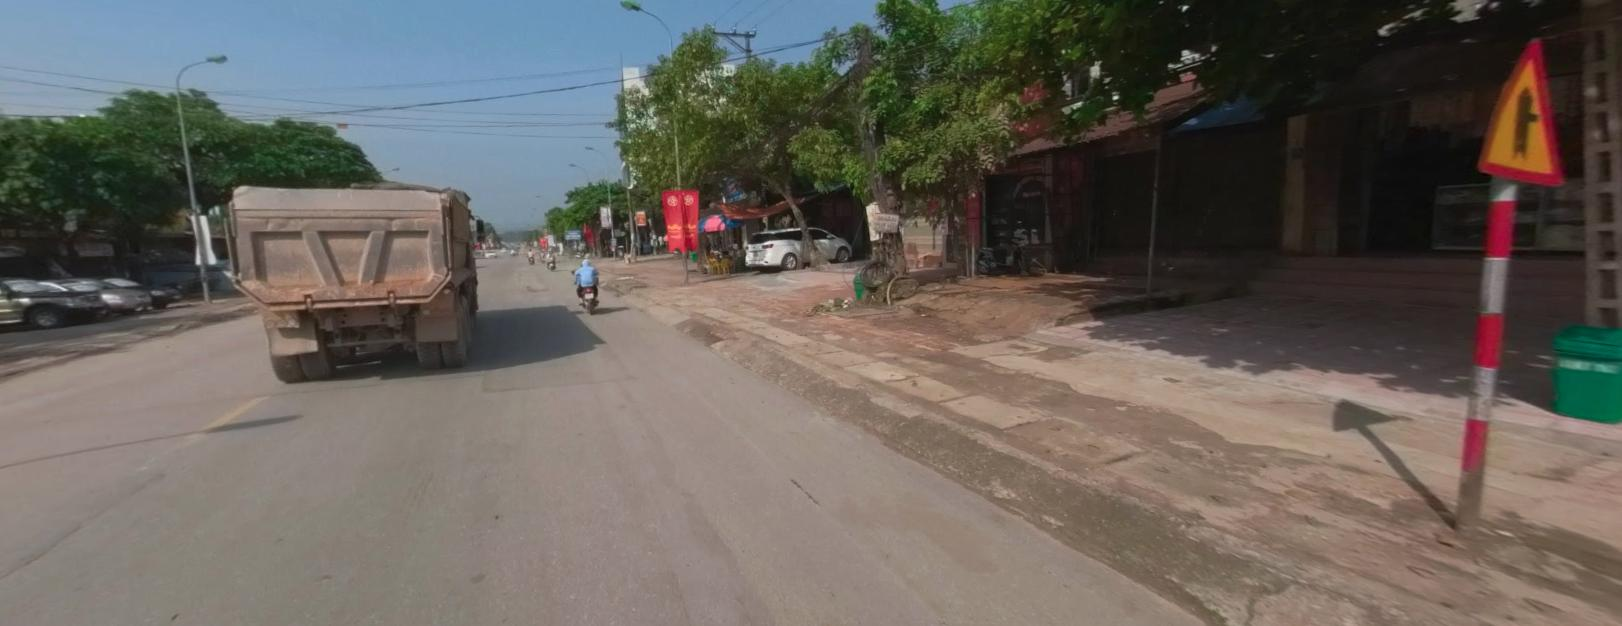Nguy hiem: (1475, 38, 1564, 186)
